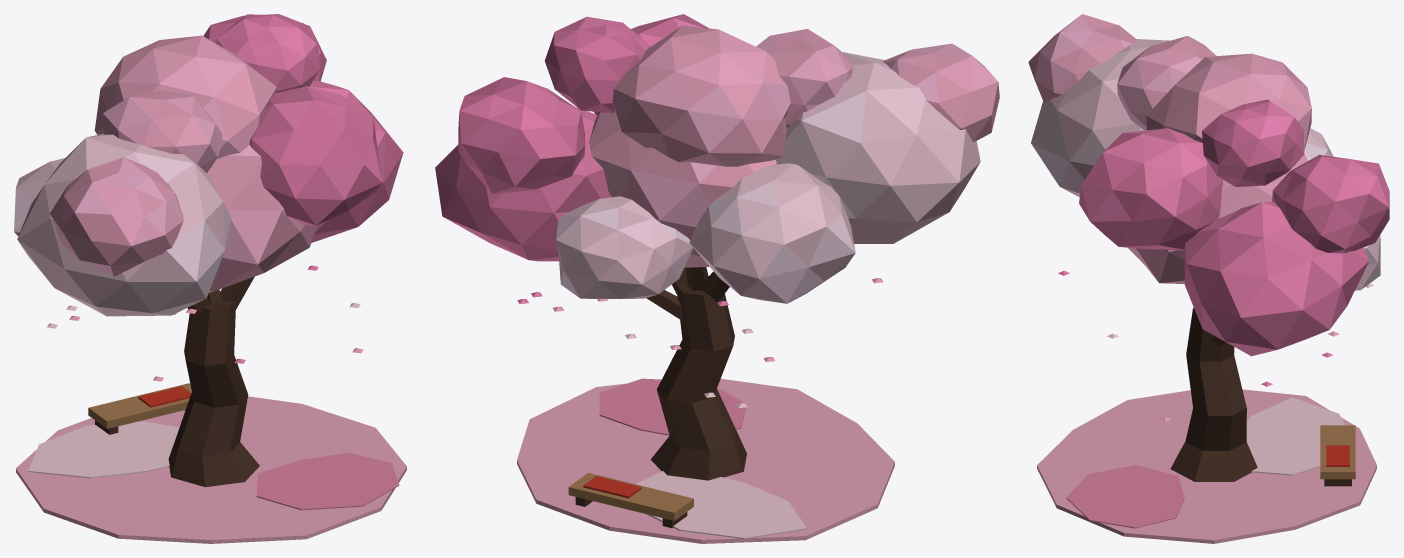
File: Decor_SamuraiShrine_Sakura.fbx
3 views of the same model, side by side, from view 1: azimuth 30°, elevation 25°; view 2: azimuth 150°, elevation 25°; view 3: azimuth 270°, elevation 25° (orthographic). The views are drawn at different scales.
Parts seen in each view (by area): view 1: Sakura_Body; view 2: Sakura_Body; view 3: Sakura_Body.
Boxes of the visible parts, x1,y1,x2,y2 form: Sakura_Body: [14, 14, 406, 543]; Sakura_Body: [435, 14, 999, 543]; Sakura_Body: [1028, 14, 1389, 543].
Size of the model in its own units: 24 by 22.5 by 18.5.
